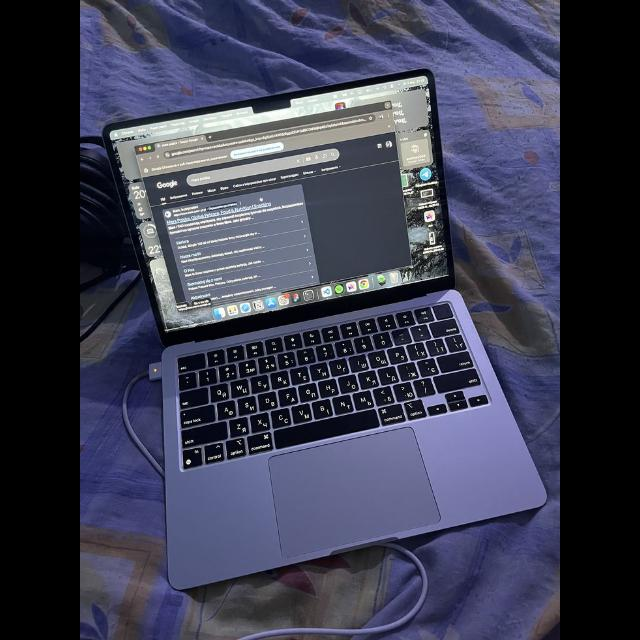laptop: (102, 70, 545, 588)
